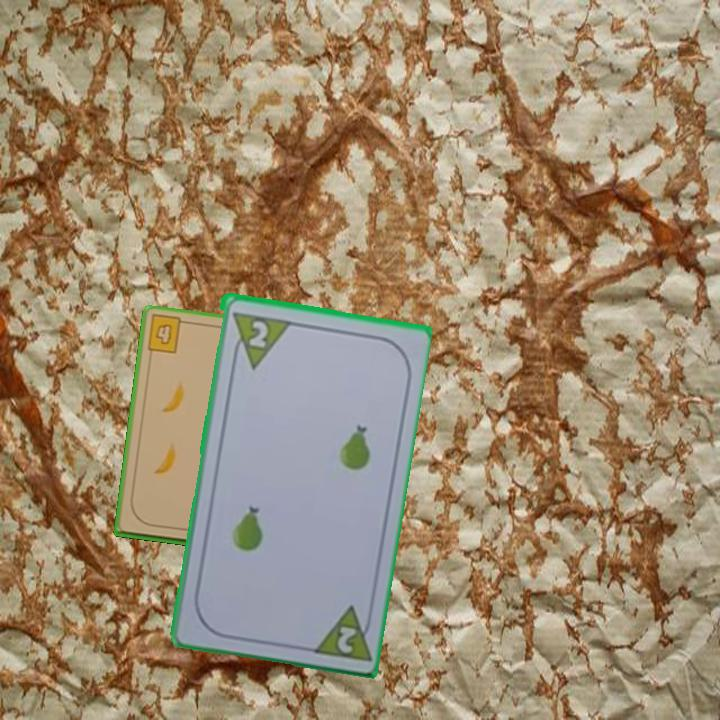2p: (244, 316, 271, 351), (333, 622, 359, 656)
4b: (144, 312, 190, 357)
